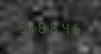eight: (40, 19, 50, 33)
four: (62, 20, 72, 34)
one: (28, 19, 38, 33)
six: (51, 20, 61, 34), (73, 20, 83, 34)
three: (17, 19, 27, 33)
